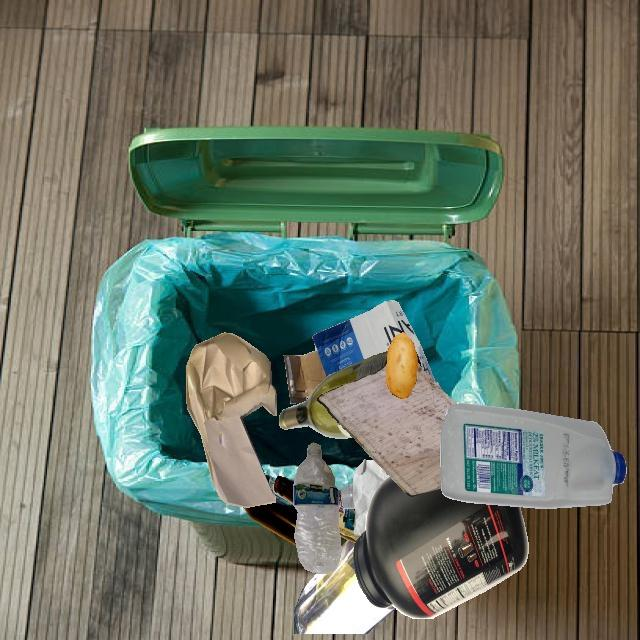biowaste: (386, 332, 418, 398)
cardboard: (284, 300, 435, 404)
glass: (279, 351, 388, 439), (294, 540, 395, 634), (244, 475, 298, 546), (337, 489, 360, 543), (274, 475, 295, 504)
paper: (317, 361, 457, 496), (186, 333, 277, 508), (353, 459, 389, 536)
plastic: (353, 476, 528, 619), (440, 403, 626, 509), (293, 442, 341, 574), (341, 483, 355, 509)
